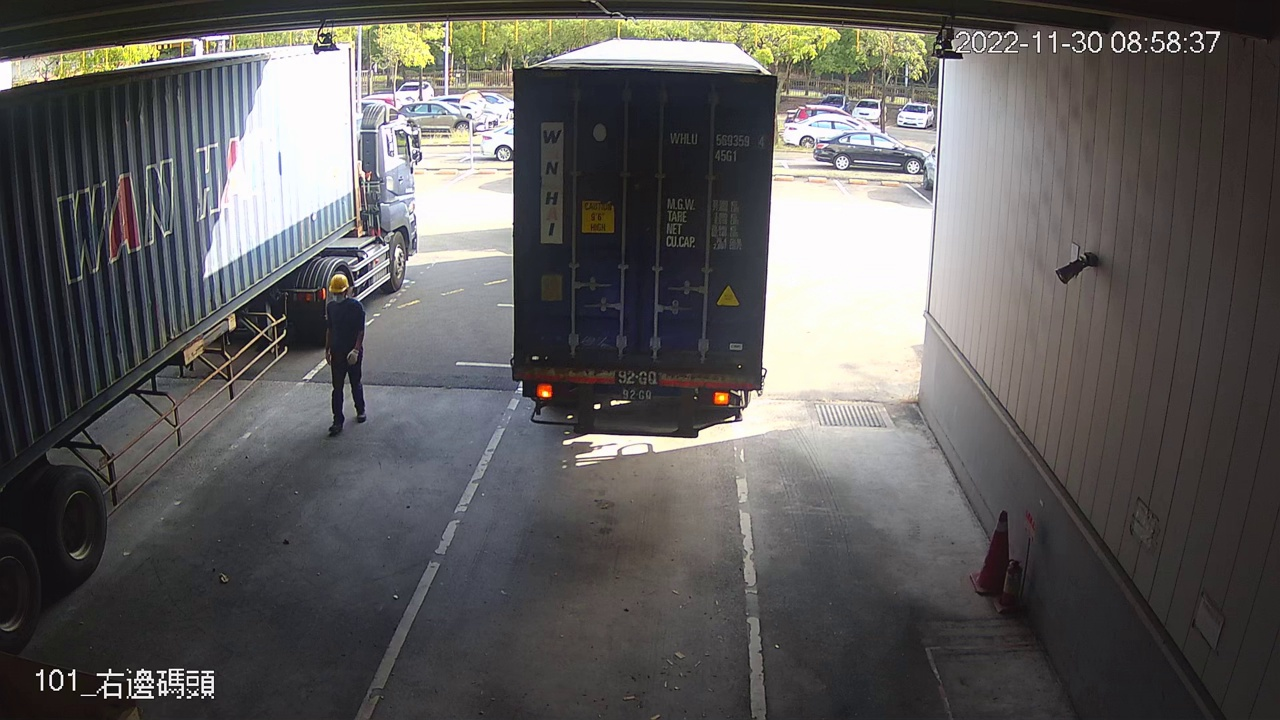container: (665, 127, 769, 167)
